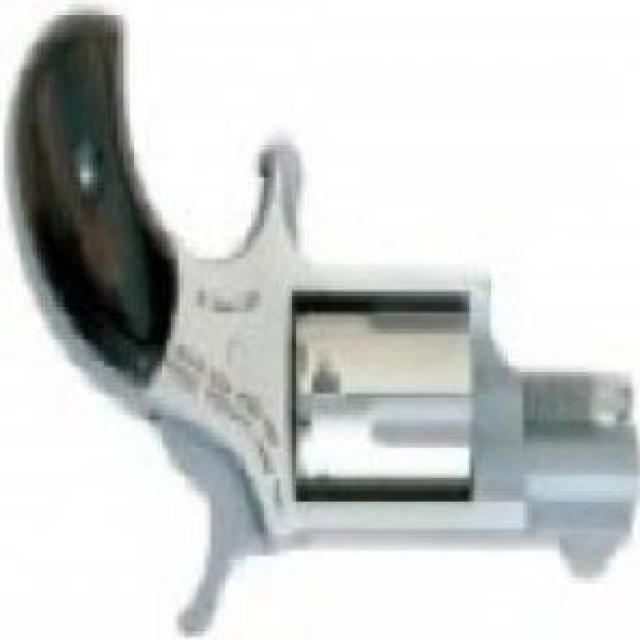pistol: (13, 21, 637, 632)
